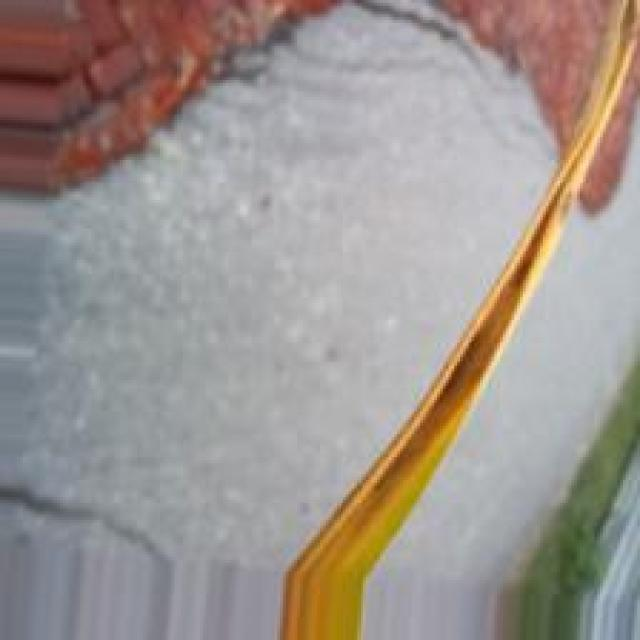Leaf_Scald: (310, 0, 637, 545)
